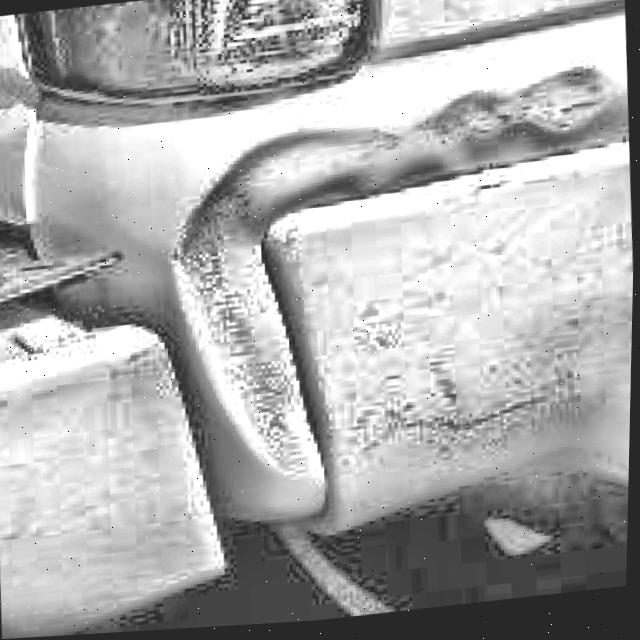bumper_dent: (161, 70, 627, 470)
